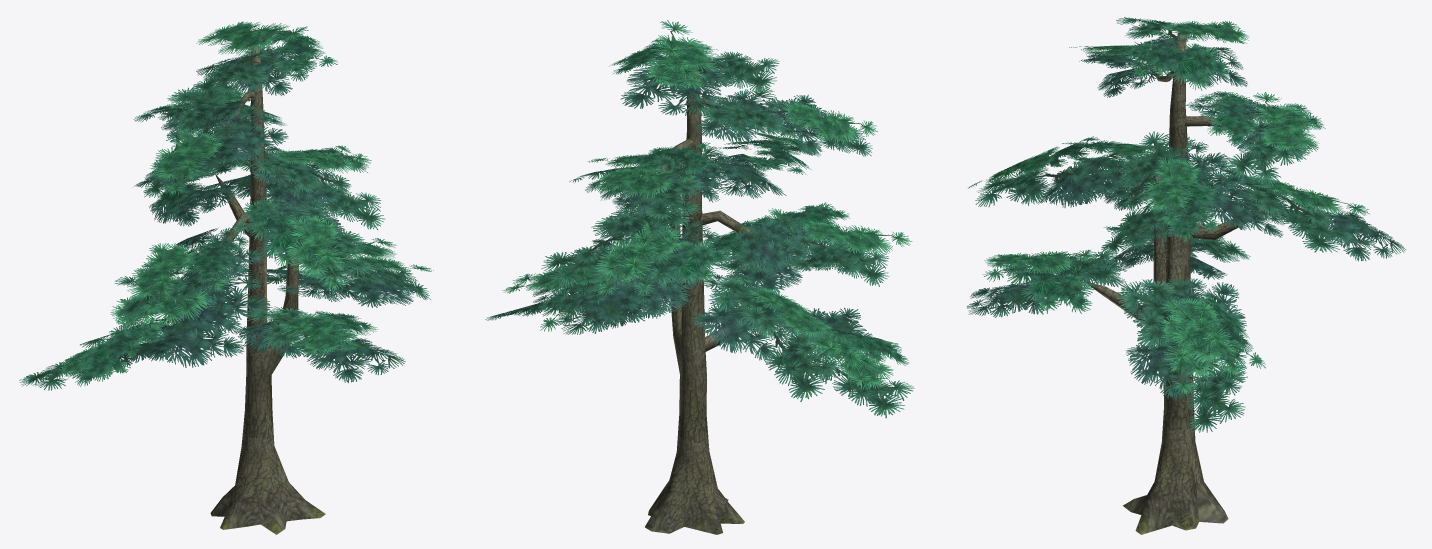
The model's file is cj_xinshou_shongshu01_53_43_9381out.fbx.
3 views of the same model, side by side, from view 1: azimuth 30°, elevation 25°; view 2: azimuth 150°, elevation 25°; view 3: azimuth 270°, elevation 25° (orthographic). The views are drawn at different scales.
Visible parts, largest first — view 1: cj_xinshou_shongshu01; view 2: cj_xinshou_shongshu01; view 3: cj_xinshou_shongshu01.
Boxes of the visible parts, bbox=[...] form: cj_xinshou_shongshu01: bbox=[19, 21, 433, 534]; cj_xinshou_shongshu01: bbox=[485, 20, 914, 534]; cj_xinshou_shongshu01: bbox=[967, 17, 1406, 534].
Bounding box in the file's own units: 11.82 × 12.88 × 10.82.
